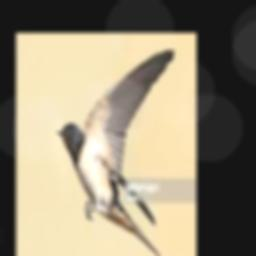Swallow: (55, 49, 174, 256)
